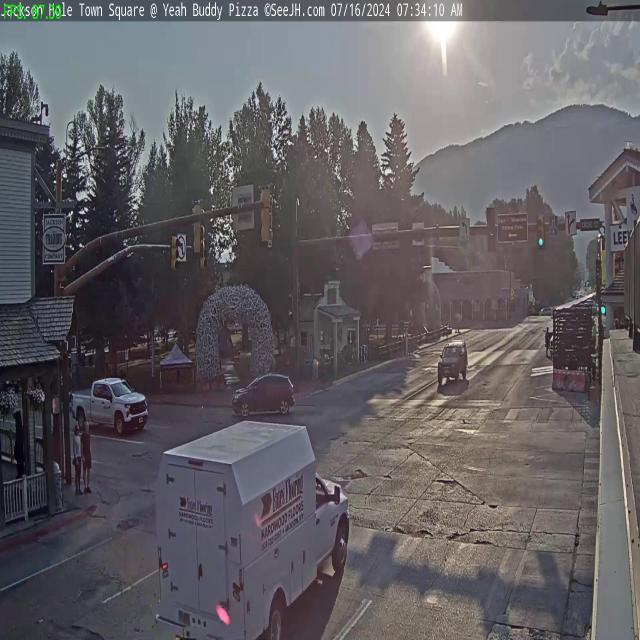person: (78, 406, 89, 491), (71, 415, 82, 496)
pickup: (70, 372, 150, 439)
suv: (231, 371, 295, 418), (437, 338, 468, 386)
traffic light: (260, 184, 273, 246), (191, 200, 203, 257), (487, 207, 498, 252), (170, 233, 180, 272), (537, 214, 545, 249)
truck: (148, 418, 356, 639)
